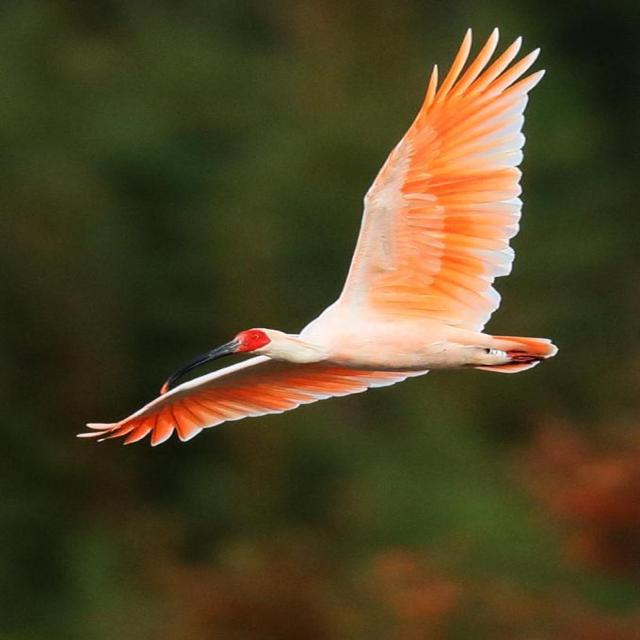bird: (75, 19, 600, 460)
